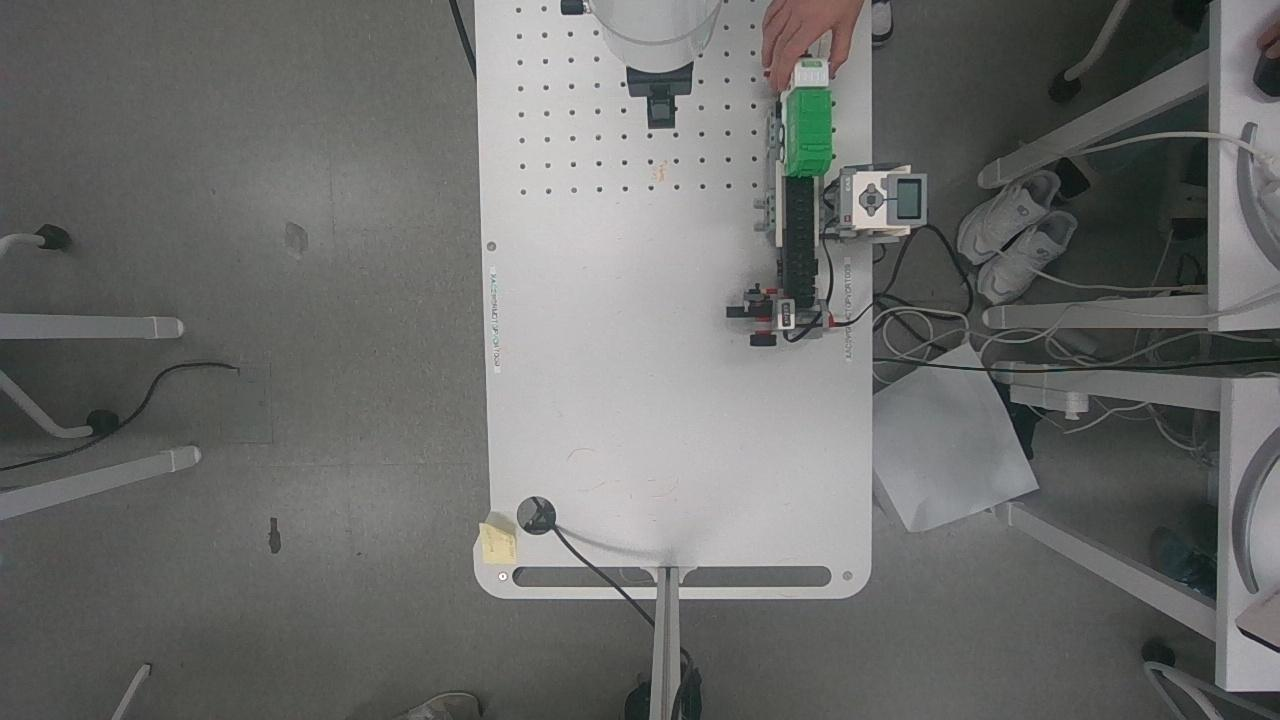truck: (771, 50, 842, 180)
